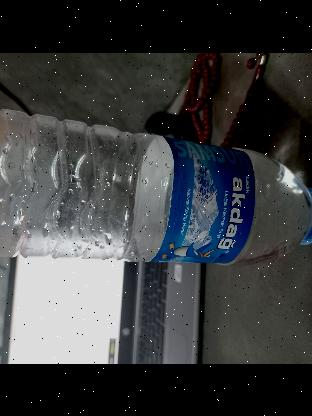Plastic Bottle: (0, 110, 312, 263)
